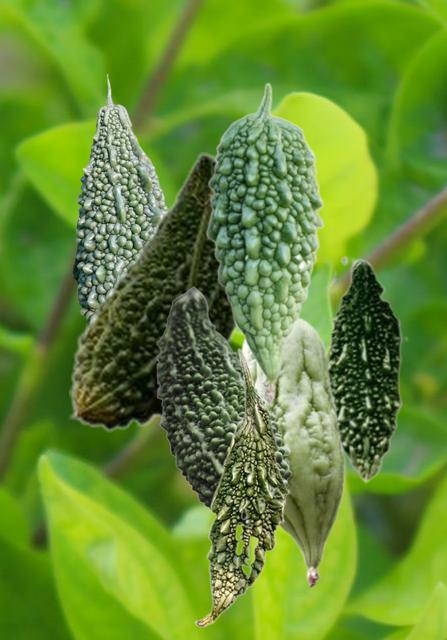ampalaya: (69, 152, 237, 431), (205, 82, 323, 406), (156, 286, 291, 525), (239, 315, 345, 587), (194, 347, 289, 626), (72, 74, 167, 322), (327, 255, 407, 483)
